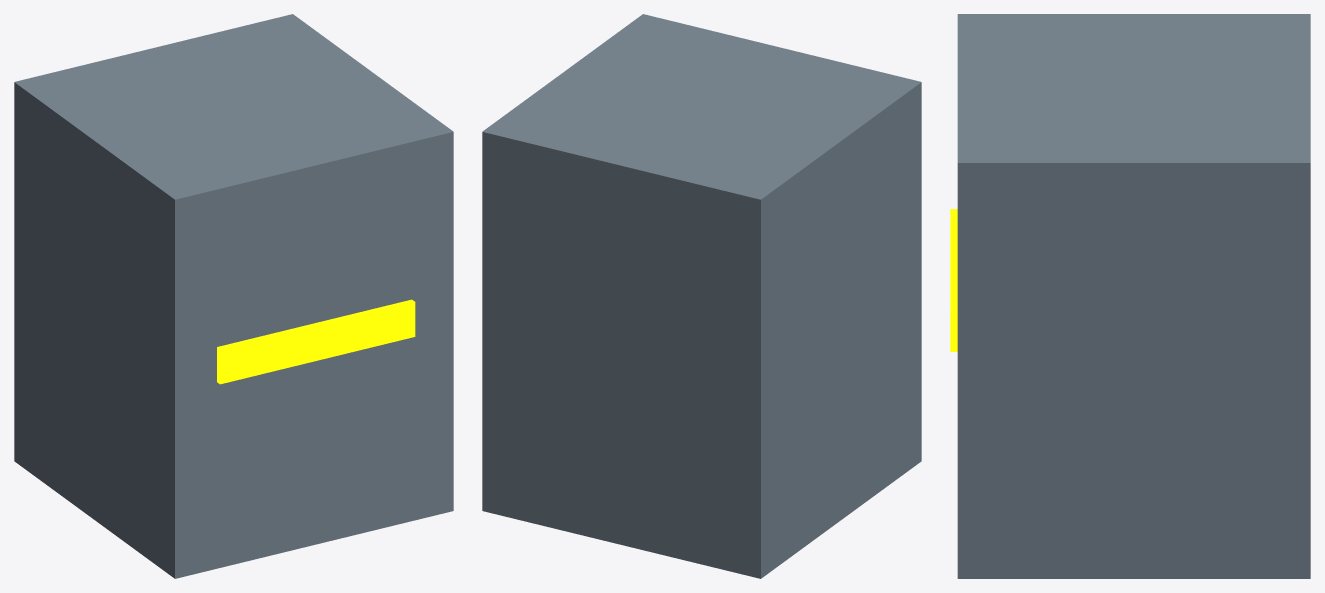
The model's file is barrier_low.glb.
The picture shows the model from 3 angles, left to right: view 1: azimuth 30°, elevation 25°; view 2: azimuth 150°, elevation 25°; view 3: azimuth 270°, elevation 25°; orthographic projection. The views are drawn at different scales.
Visible parts, largest first — view 1: Obstruction, Hazard marking; view 2: Obstruction; view 3: Obstruction, Hazard marking.
Part boxes in pixels (bbox=[...]): Obstruction: bbox=[14, 14, 453, 578]; Hazard marking: bbox=[217, 299, 415, 384]; Obstruction: bbox=[482, 14, 921, 578]; Obstruction: bbox=[957, 14, 1310, 578]; Hazard marking: bbox=[950, 209, 957, 351].
Bounding box in the file's own units: 1 × 1.3 × 1.02.
